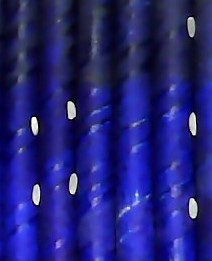broken_grain: (66, 98, 79, 122)
complete_grain: (66, 169, 80, 200), (29, 112, 41, 140), (187, 195, 200, 220), (188, 109, 199, 137), (31, 182, 43, 206), (186, 14, 197, 40)
